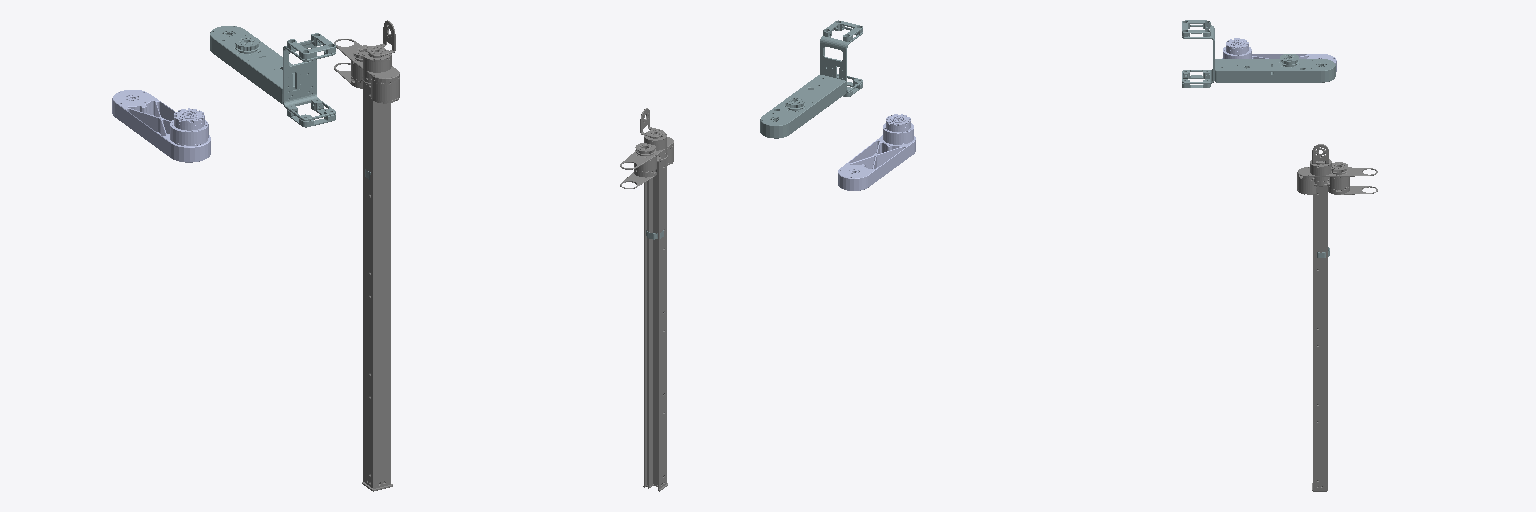
URDF robot description (v5):
<?xml version="1.0" encoding="utf-8"?>
<!-- This URDF was automatically created by SolidWorks to URDF Exporter! Originally created by Stephen Brawner (brawner@gmail.com) 
     Commit Version: 1.6.0-4-g7f85cfe  Build Version: 1.6.7995.38578
     For more information, please see http://wiki.ros.org/sw_urdf_exporter -->
<robot
  name="v5">
  <link
    name="base_link">
    <inertial>
      <origin
        xyz="0.00037174 0.00076029 0.0081741"
        rpy="0 0 0" />
      <mass
        value="0.067013" />
      <inertia
        ixx="5.2558E-05"
        ixy="7.6841E-07"
        ixz="9.0652E-09"
        iyy="5.7843E-05"
        iyz="2.2062E-07"
        izz="0.00010612" />
    </inertial>
    <visual>
      <origin
        xyz="0 0 0"
        rpy="0 0 0" />
      <geometry>
        <mesh
          filename="package://v/meshes/base_link.STL" />
      </geometry>
      <material
        name="">
        <color
          rgba="0.79216 0.81961 0.93333 1" />
      </material>
    </visual>
    <collision>
      <origin
        xyz="0 0 0"
        rpy="0 0 0" />
      <geometry>
        <mesh
          filename="package://v/meshes/base_link.STL" />
      </geometry>
    </collision>
  </link>
  <link
    name="1">
    <inertial>
      <origin
        xyz="0.000283330754638176 0.108971820119899 -0.02200106419001"
        rpy="0 0 0" />
      <mass
        value="0.270396491498897" />
      <inertia
        ixx="0.00177106115971623"
        ixy="-4.02001404703815E-06"
        ixz="8.46216068730211E-08"
        iyy="0.000257227404524593"
        iyz="2.77054010015242E-05"
        izz="0.00194175108528659" />
    </inertial>
    <visual>
      <origin
        xyz="0 0 0"
        rpy="0 0 0" />
      <geometry>
        <mesh
          filename="package://v/meshes/1.STL" />
      </geometry>
      <material
        name="">
        <color
          rgba="0.792156862745098 0.819607843137255 0.933333333333333 1" />
      </material>
    </visual>
    <collision>
      <origin
        xyz="0 0 0"
        rpy="0 0 0" />
      <geometry>
        <mesh
          filename="package://v/meshes/1.STL" />
      </geometry>
    </collision>
  </link>
  <joint
    name="1"
    type="revolute">
    <origin
      xyz="0 0 0.086934"
      rpy="0 0 -1.5707963" />
    <parent
      link="base_link" />
    <child
      link="1" />
    <axis
      xyz="0 0 1" />
    <limit
      lower="-3.14159"
      upper="3.14159"
      effort="0"
      velocity="0" />
  </joint>
  <link
    name="2">
    <inertial>
      <origin
        xyz="0.000625245464672479 0.199580153404648 -0.00947092096470609"
        rpy="0 0 0" />
      <mass
        value="0.479322398010316" />
      <inertia
        ixx="0.00309047573375367"
        ixy="-6.95985414318233E-06"
        ixz="5.96091499843629E-08"
        iyy="0.000666532363518401"
        iyz="-9.13197175789166E-05"
        izz="0.00313623013140795" />
    </inertial>
    <visual>
      <origin
        xyz="0 0 0"
        rpy="0 0 0" />
      <geometry>
        <mesh
          filename="package://v/meshes/2.STL" />
      </geometry>
      <material
        name="">
        <color
          rgba="0.592156862745098 0.666666666666667 0.682352941176471 1" />
      </material>
    </visual>
    <collision>
      <origin
        xyz="0 0 0"
        rpy="0 0 0" />
      <geometry>
        <mesh
          filename="package://v/meshes/2.STL" />
      </geometry>
    </collision>
  </link>
  <joint
    name="2"
    type="revolute">
    <origin
      xyz="0.00057651 0.22 0.089322"
      rpy="0 0 0" />
    <parent
      link="1" />
    <child
      link="2" />
    <axis
      xyz="0 0 1" />
    <limit
      lower="-2.6"
      upper="2.6"
      effort="0"
      velocity="0" />
  </joint>
  <link
    name="3">
    <inertial>
      <origin
        xyz="0.000860249403031574 0.00410923367250005 0.395104710513562"
        rpy="0 0 0" />
      <mass
        value="0.43391809697276" />
      <inertia
        ixx="0.0243700366154848"
        ixy="6.39542847077048E-06"
        ixz="4.97304228604265E-07"
        iyy="0.0243960899390268"
        iyz="-6.0334924216642E-07"
        izz="0.000157439756826439" />
    </inertial>
    <visual>
      <origin
        xyz="0 0 0"
        rpy="0 0 0" />
      <geometry>
        <mesh
          filename="package://v/meshes/3.STL" />
      </geometry>
      <material
        name="">
        <color
          rgba="0.6 0.6 0.6 1" />
      </material>
    </visual>
    <collision>
      <origin
        xyz="0 0 0"
        rpy="0 0 0" />
      <geometry>
        <mesh
          filename="package://v/meshes/3.STL" />
      </geometry>
    </collision>
  </link>
  <joint
    name="3"
    type="prismatic">
    <origin
      xyz="0.00104 0.33845 -0.08079"
      rpy="0 0 0" />
    <parent
      link="2" />
    <child
      link="3" />
    <axis
      xyz="0 0 -1" />
    <limit
      lower="-0.38"
      upper="0.34"
      effort="0"
      velocity="0" />
  </joint>
  <link
    name="4">
    <inertial>
      <origin
        xyz="0.00546162112483925 -1.43238343325303E-05 -0.0901666975930702"
        rpy="0 0 0" />
      <mass
        value="0.0486993472288529" />
      <inertia
        ixx="2.94373354080649E-05"
        ixy="-2.10298816769162E-08"
        ixz="3.23046099690144E-06"
        iyy="2.14087703745837E-05"
        iyz="-1.41607151285564E-08"
        izz="1.70281174999804E-05" />
    </inertial>
    <visual>
      <origin
        xyz="0 0 0"
        rpy="0 0 0" />
      <geometry>
        <mesh
          filename="package://v/meshes/4.STL" />
      </geometry>
      <material
        name="">
        <color
          rgba="0.6 0.6 0.6 1" />
      </material>
    </visual>
    <collision>
      <origin
        xyz="0 0 0"
        rpy="0 0 0" />
      <geometry>
        <mesh
          filename="package://v/meshes/4.STL" />
      </geometry>
    </collision>
  </link>
  <joint
    name="4"
    type="revolute">
    <origin
      xyz="0 0 0"
      rpy="0 0 3.14" />
    <parent
      link="3" />
    <child
      link="4" />
    <axis
      xyz="0 0 -1" />
    <limit
      lower="-3.14"
      upper="3.14"
      effort="0"
      velocity="0" />
  </joint>
  <link
    name="5">
    <inertial>
      <origin
        xyz="0.0164043689117536 -0.000500890131716725 -0.0762454415984169"
        rpy="0 0 0" />
      <mass
        value="0.121079773298547" />
      <inertia
        ixx="0.000145987864976511"
        ixy="9.11882280538297E-09"
        ixz="4.98142595951809E-07"
        iyy="0.000116806870472255"
        iyz="-8.23284172593898E-07"
        izz="3.29456153752361E-05" />
    </inertial>
    <visual>
      <origin
        xyz="0 0 0"
        rpy="0 0 0" />
      <geometry>
        <mesh
          filename="package://v/meshes/5.STL" />
      </geometry>
      <material
        name="">
        <color
          rgba="0.6 0.6 0.6 1" />
      </material>
    </visual>
    <collision>
      <origin
        xyz="0 0 0"
        rpy="0 0 0" />
      <geometry>
        <mesh
          filename="package://v/meshes/5.STL" />
      </geometry>
    </collision>
  </link>
  <joint
    name="5"
    type="revolute">
    <origin
      xyz="-0.0325 8.5166E-05 -0.0985"
      rpy="0 0 0" />
    <parent
      link="4" />
    <child
      link="5" />
    <axis
      xyz="-1 0 0" />
    <limit
      lower="-1.57"
      upper="1.57"
      effort="0"
      velocity="0" />
  </joint>
  <link
    name="6">
    <inertial>
      <origin
        xyz="0.0336790114495859 9.27656445687264E-06 -0.0282717570464778"
        rpy="0 0 0" />
      <mass
        value="0.147522035345064" />
      <inertia
        ixx="5.95613312670429E-05"
        ixy="-2.71873576176654E-07"
        ixz="-4.71086166775795E-07"
        iyy="6.65607104216001E-05"
        iyz="7.89718406587371E-08"
        izz="9.63655396658429E-05" />
    </inertial>
    <visual>
      <origin
        xyz="0 0 0"
        rpy="0 0 0" />
      <geometry>
        <mesh
          filename="package://v/meshes/6.STL" />
      </geometry>
      <material
        name="">
        <color
          rgba="0.592156862745098 0.666666666666667 0.682352941176471 1" />
      </material>
    </visual>
    <collision>
      <origin
        xyz="0 0 0"
        rpy="0 0 0" />
      <geometry>
        <mesh
          filename="package://v/meshes/6.STL" />
      </geometry>
    </collision>
  </link>
  <joint
    name="6"
    type="revolute">
    <origin
      xyz="0 -0.00089984 -0.13196"
      rpy="0 0 0" />
    <parent
      link="5" />
    <child
      link="6" />
    <axis
      xyz="-1 0 0" />
    <limit
      lower="-1.5708"
      upper="1.5708"
      effort="0"
      velocity="0" />
  </joint>
  <link
    name="tool">
    <inertial>
      <origin
        xyz="0.000497922981556132 -8.09818934133233E-09 -0.00556751967626101"
        rpy="0 0 1.57" />
      <mass
        value="0.0347927423461036" />
      <inertia
        ixx="7.36319206026991E-06"
        ixy="3.14656684912017E-11"
        ixz="-2.71840787742371E-08"
        iyy="7.25268028788137E-06"
        iyz="2.38993055521486E-12"
        izz="1.2105538023337E-05" />
    </inertial>
    <visual>
      <origin
        xyz="0 0 0"
        rpy="1.57 0 1.57" />
      <geometry>
        <mesh
          filename="package://v/meshes/tool.STL" />
      </geometry>
      <material
        name="">
        <color
          rgba="0.592156862745098 0.666666666666667 0.682352941176471 1" />
      </material>
    </visual>
    <collision>
      <origin
        xyz="0 0 0"
        rpy="0 0 0" />
      <geometry>
        <mesh
          filename="package://v/meshes/tool.STL" />
      </geometry>
    </collision>
  </link>
  <joint
    name="tool"
    type="fixed">
    <origin
      xyz="0.034623 0.000319 -0.079347"
      rpy="1.57 1.57 0" />
    <parent
      link="6" />
    <child
      link="tool" />
    <axis
      xyz="0 0 0" />
  </joint>
  <link
    name="jishen">
    <inertial>
      <origin
        xyz="8.55176828977935E-05 0.0555448576615326 0.132352408369111"
        rpy="0 0 0" />
      <mass
        value="3.71034272273403" />
      <inertia
        ixx="0.0901317822101718"
        ixy="-2.8938923253906E-06"
        ixz="2.07094590464467E-07"
        iyy="0.0889360197728948"
        iyz="-3.51295360946582E-05"
        izz="0.0353800056691636" />
    </inertial>
    <visual>
      <origin
        xyz="0 0 0"
        rpy="0 0 0" />
      <geometry>
        <mesh
          filename="package://v/meshes/jishen.STL" />
      </geometry>
      <material
        name="">
        <color
          rgba="0.592156862745098 0.666666666666667 0.682352941176471 1" />
      </material>
    </visual>
    <collision>
      <origin
        xyz="0 0 0"
        rpy="0 0 0" />
      <geometry>
        <mesh
          filename="package://v/meshes/jishen.STL" />
      </geometry>
    </collision>
  </link>
  <joint
    name="js"
    type="fixed">
    <origin
      xyz="-0.00070172 -0.1533 -0.771"
      rpy="0 0 0" />
    <parent
      link="base_link" />
    <child
      link="jishen" />
    <axis
      xyz="0 0 0" />
  </joint>
  <link
    name="mt">
    <inertial>
      <origin
        xyz="0.00615323958593488 -0.0348715165962469 0.234411087549082"
        rpy="0 0 0" />
      <mass
        value="18.7988764514115" />
      <inertia
        ixx="0.737470176890568"
        ixy="-0.0108084445141515"
        ixz="0.00370790646673666"
        iyy="0.507882468358912"
        iyz="0.0102035093225799"
        izz="0.75870689013396" />
    </inertial>
    <visual>
      <origin
        xyz="0 0 0"
        rpy="0 0 0" />
      <geometry>
        <mesh
          filename="package://v/meshes/mt.STL" />
      </geometry>
      <material
        name="">
        <color
          rgba="0.592156862745098 0.666666666666667 0.682352941176471 1" />
      </material>
    </visual>
    <collision>
      <origin
        xyz="0 0 0"
        rpy="0 0 0" />
      <geometry>
        <mesh
          filename="package://v/meshes/mt.STL" />
      </geometry>
    </collision>
  </link>
  <joint
    name="mt"
    type="fixed">
    <origin
      xyz="-0.00025007 0.43848 -0.915"
      rpy="0 0 3.1416" />
    <parent
      link="base_link" />
    <child
      link="mt" />
    <axis
      xyz="0 1 0" />
    <limit
      lower="-0.2"
      upper="0.6"
      effort="0"
      velocity="0" />
  </joint>
  <link
    name="mtg">
    <inertial>
      <origin
        xyz="-0.140872013543866 0.0300042201747069 0.218292825178522"
        rpy="0 0 0" />
      <mass
        value="0.995505996511528" />
      <inertia
        ixx="0.0176998000794026"
        ixy="3.24136211927147E-06"
        ixz="-1.90657533138352E-05"
        iyy="0.0332600311379998"
        iyz="0.00104390388961887"
        izz="0.0161314181612767" />
    </inertial>
    <visual>
      <origin
        xyz="0 0 0"
        rpy="0 0 0" />
      <geometry>
        <mesh
          filename="package://v/meshes/mtg.STL" />
      </geometry>
      <material
        name="">
        <color
          rgba="0.592156862745098 0.666666666666667 0.682352941176471 1" />
      </material>
    </visual>
    <collision>
      <origin
        xyz="0 0 0"
        rpy="0 0 0" />
      <geometry>
        <mesh
          filename="package://v/meshes/mtg.STL" />
      </geometry>
    </collision>
  </link>
  <joint
    name="mtg"
    type="fixed">
    <origin
      xyz="0.13999 -0.15464 0.4791"
      rpy="0 0 -0.0026205" />
    <parent
      link="mt" />
    <child
      link="mtg" />
    <axis
      xyz="1 0 0" />
    <limit
      lower="0"
      upper="0"
      effort="0"
      velocity="0" />
  </joint>
</robot>

--- Facts derived from the render (not from the file) ---
Views: 3 orthographic renders of the robot side by side, from view 1: azimuth 30°, elevation 25°; view 2: azimuth 150°, elevation 25°; view 3: azimuth 270°, elevation 25°.
Model v5 with 11 links and 10 joints (5 revolute, 1 prismatic, 4 fixed), rooted at base_link, posed all joints at 0.
Links seen in each view (by area): view 1: 3, 2, 1, 5, 4; view 2: 3, 2, 1, 5, 4; view 3: 3, 2, 5, 1, 4.
Boxes of the visible links, box(x1,y1,x2,y2) form: 3: box(362, 77, 392, 491); 2: box(210, 26, 335, 127); 1: box(112, 90, 210, 162); 5: box(334, 39, 399, 103); 4: box(363, 20, 395, 82); 3: box(643, 155, 667, 491); 2: box(760, 20, 862, 138); 1: box(838, 114, 915, 190); 5: box(620, 137, 673, 188); 4: box(640, 108, 666, 159); 3: box(1312, 183, 1329, 491); 2: box(1182, 20, 1335, 87); 5: box(1297, 162, 1377, 194); 1: box(1222, 38, 1336, 71); 4: box(1310, 144, 1331, 184).
Bounding box of the posed robot: 0.6285 × 0.5134 × 1.18 m (x, y, z).
6 mesh visuals loaded from 11 distinct referenced files (6 binary STL); not drawn: 5 (reference not matched to a file when rendering).
